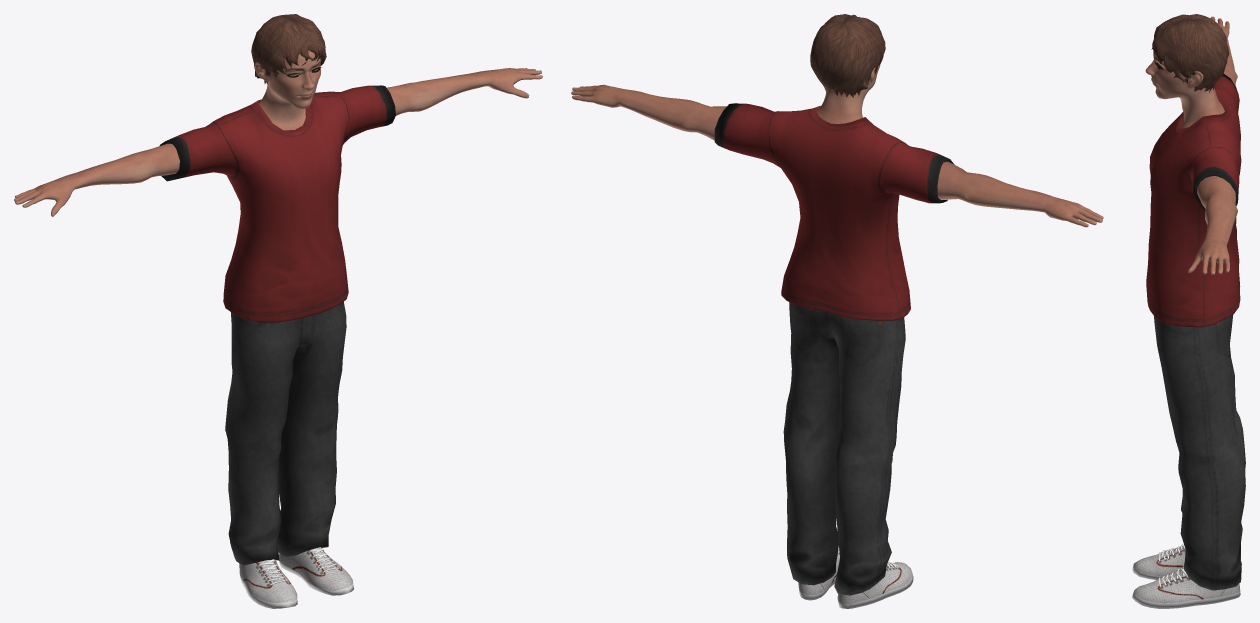
The model's file is BOY.glb.
The picture shows the model from 3 angles, left to right: view 1: azimuth 30°, elevation 25°; view 2: azimuth 150°, elevation 25°; view 3: azimuth 270°, elevation 25°; orthographic projection.
Visible parts, largest first — view 1: 2; view 2: 2; view 3: 2.
Part boxes in pixels (x1,y1,x2,y2): 2: (14, 14, 542, 608); 2: (571, 14, 1103, 608); 2: (1132, 14, 1245, 608).
Bounding box in the file's own units: 33 × 33.77 × 6.12.
1 material, 1 textured.
